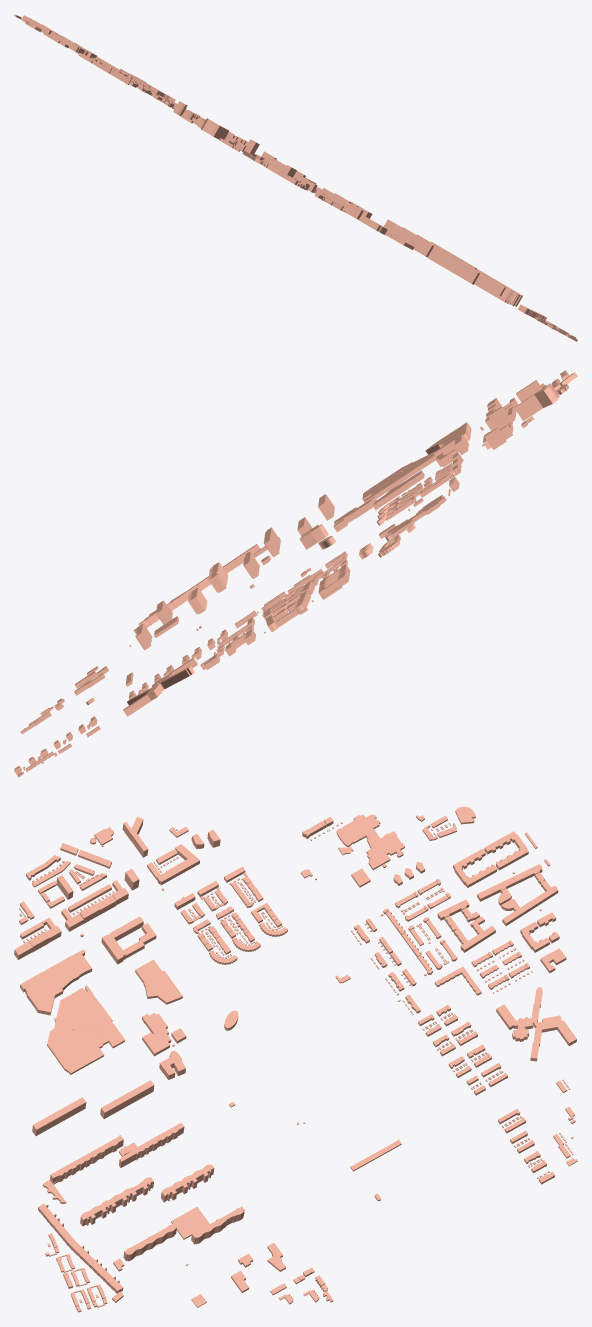
3 renders of one model, top to bottom at view 1: azimuth 30°, elevation 25°; view 2: azimuth 150°, elevation 25°; view 3: azimuth 270°, elevation 25°, orthographic. The views are drawn at different scales.
Size of the model in its own units: 1054 by 771 by 1257.
